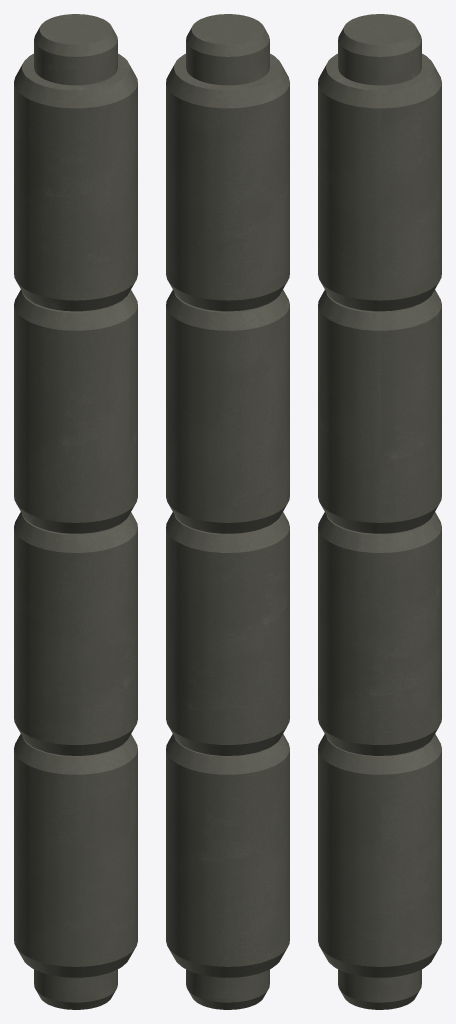
File: Hinge.fbx
The picture shows the model from 3 angles, left to right: view 1: azimuth 30°, elevation 25°; view 2: azimuth 150°, elevation 25°; view 3: azimuth 330°, elevation 25°; orthographic projection.
Parts seen in each view (by area): view 1: polySurface833; view 2: polySurface833; view 3: polySurface833.
Part boxes in pixels (left/top/right/bottom): polySurface833: left=14, top=14, right=137, bottom=1009; polySurface833: left=166, top=14, right=289, bottom=1009; polySurface833: left=318, top=14, right=441, bottom=1009.
Size of the model in its own units: 0.0192 by 0.1654 by 0.0192.
